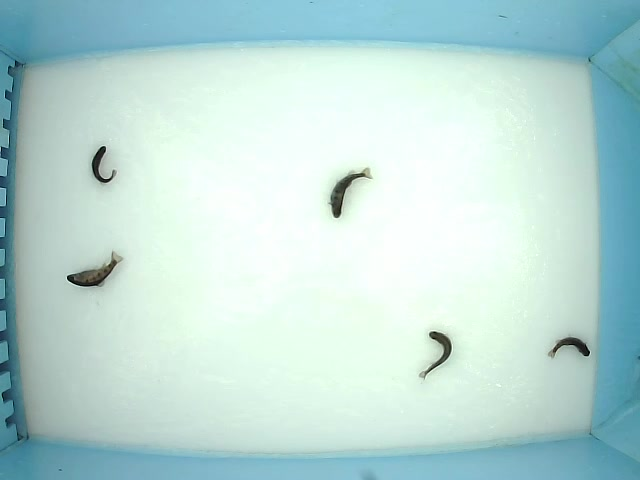fish: (326, 166, 375, 219), (65, 249, 124, 288), (418, 330, 453, 380), (546, 333, 591, 361), (91, 145, 117, 184)
